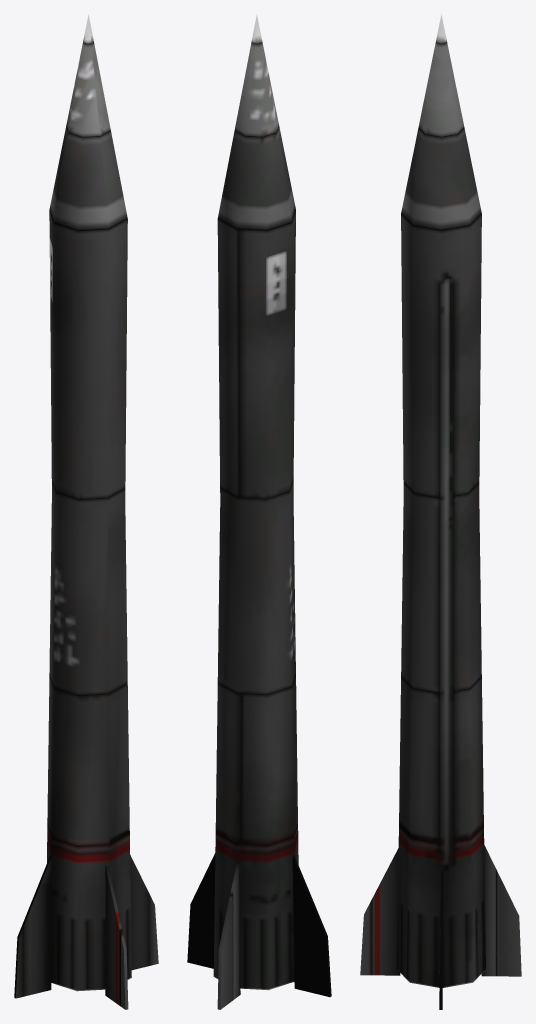
File: SCUD_MISSILE.glb
The picture shows the model from 3 angles, left to right: view 1: azimuth 30°, elevation 25°; view 2: azimuth 150°, elevation 25°; view 3: azimuth 270°, elevation 25°; orthographic projection.
Visible parts, largest first — view 1: SCUD; view 2: SCUD; view 3: SCUD.
Part boxes in pixels (x1=…): SCUD: x1=14, y1=15, x2=158, y2=1009; SCUD: x1=187, y1=14, x2=331, y2=1009; SCUD: x1=360, y1=14, x2=521, y2=1009.
Bounding box in the file's own units: 2.55 × 16.49 × 2.5.
Materials: 1 (1 with a texture image).
